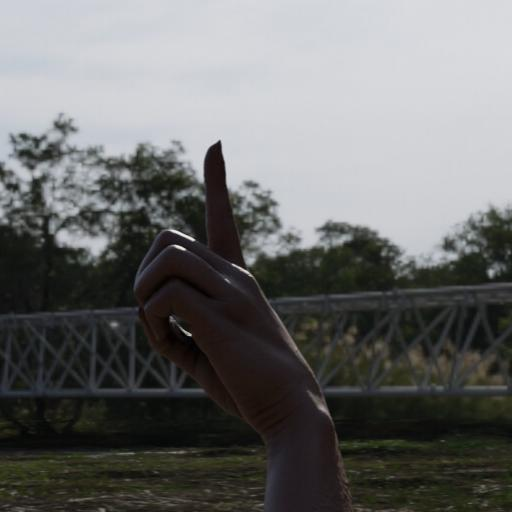D: (122, 134, 336, 450)
